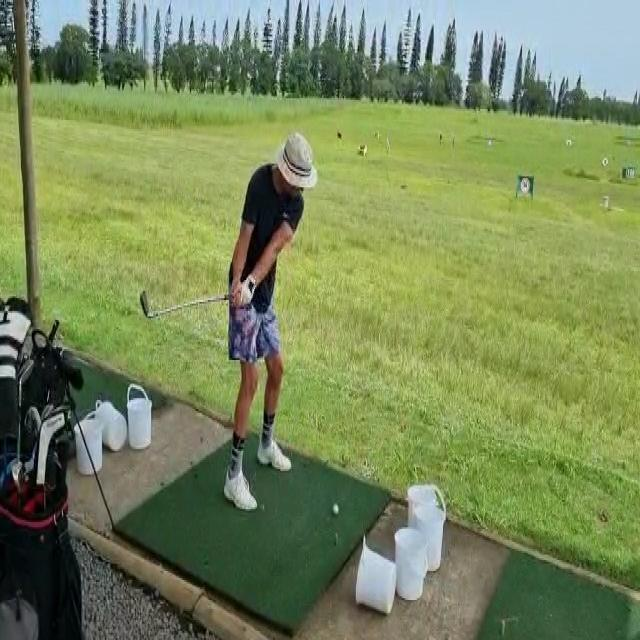club head: (140, 288, 152, 319)
